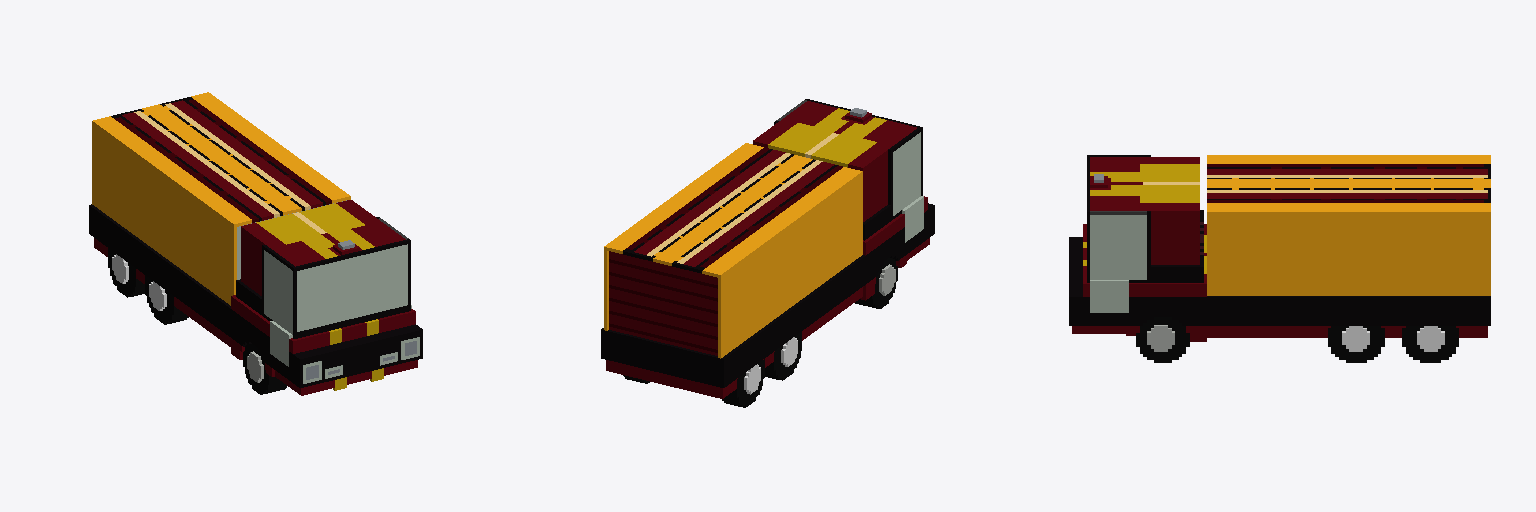
3 views of the same model, side by side, from view 1: azimuth 30°, elevation 25°; view 2: azimuth 150°, elevation 25°; view 3: azimuth 270°, elevation 25° (orthographic).
Parts seen in each view (by area): view 1: bldr_TruckMain; view 2: bldr_TruckMain; view 3: bldr_TruckMain.
Boxes of the visible parts, box(x1,y1,x2,y2) form: bldr_TruckMain: box(89, 92, 422, 395); bldr_TruckMain: box(601, 99, 934, 407); bldr_TruckMain: box(1069, 155, 1490, 362).
Size of the model in its own units: 40 by 49 by 119.
1 materials, 1 textured.